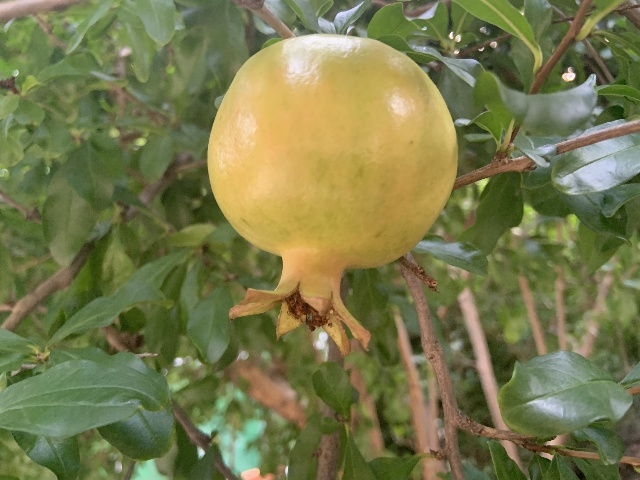mid-growth: (207, 31, 460, 354)
